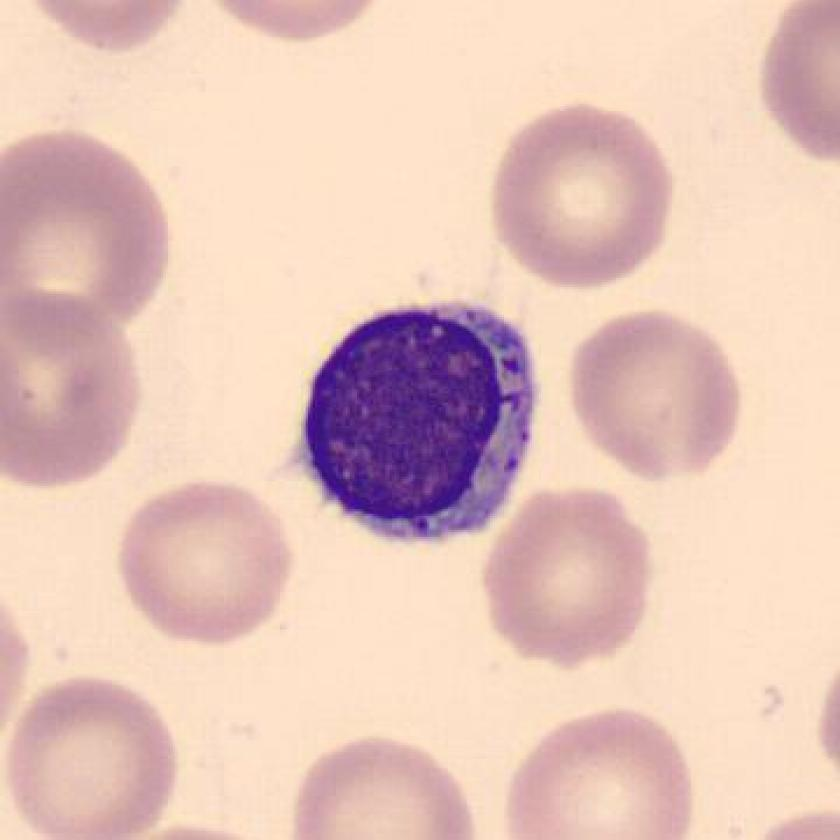lymphocyte: (272, 279, 559, 561)
